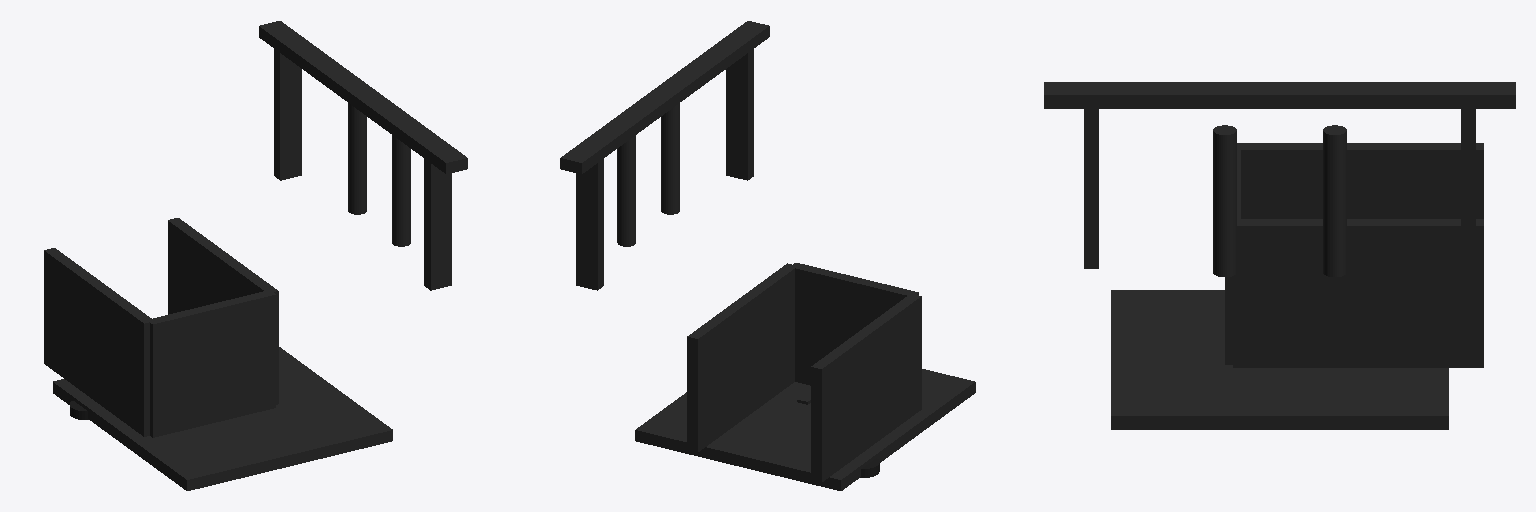
The robot description file, URDF, robot "j100_0922":
<?xml version='1.0' encoding='utf-8'?>
<robot name="j100_0922">
  <material name="clearpath_dark_grey">
    <color rgba="0.2 0.2 0.2 1.0" />
  </material>
  <material name="clearpath_medium_grey">
    <color rgba="0.6 0.6 0.6 1.0" />
  </material>
  <material name="clearpath_light_grey">
    <color rgba="0.8 0.8 0.8 1.0" />
  </material>
  <material name="clearpath_yellow">
    <color rgba="0.8 0.8 0.0 1.0" />
  </material>
  <material name="clearpath_black">
    <color rgba="0.15 0.15 0.15 1.0" />
  </material>
  <material name="clearpath_white">
    <color rgba="1.0 1.0 1.0 1.0" />
  </material>
  <material name="clearpath_red">
    <color rgba="1.0 0.0 0.0 1.0" />
  </material>
  <material name="clearpath_aluminum">
    <color rgba="0.5 0.5 0.5 1" />
  </material>
  <material name="clearpath_plastic">
    <color rgba="0.1 0.1 0.1   1" />
  </material>
  <link name="base_link"><visual>
      <origin xyz="0 0 0" rpy="0 -0 0" /><geometry>
        <mesh filename="meshes/clearpath_platform_description/meshes/j100/attachments/default_fender.stl" />
      </geometry>
      <material name="clearpath_yellow" />
    </visual>
  <visual>
      <origin xyz="0 0 0" rpy="0 -0 3.1415" /><geometry>
        <mesh filename="meshes/clearpath_platform_description/meshes/j100/attachments/default_fender.stl" />
      </geometry>
      <material name="clearpath_yellow" />
    </visual>
  </link>
  <joint name="base_link_joint" type="fixed">
    <origin rpy="0 0 0" xyz="0 0 0" />
    <parent link="base_link" />
    <child link="chassis_link" />
  </joint>
  <link name="chassis_link">
    <visual>
      <origin rpy="1.5707963267948966 0 1.5707963267948966" xyz="0 0 -0.0655" />
      <geometry>
        <mesh filename="meshes/clearpath_platform_description/meshes/j100/j100_base.stl" />
      </geometry>
      <material name="clearpath_dark_grey" />
    </visual>
    <collision>
      <origin xyz="0 0 0.092" />
      <geometry>
        <box size="0.42 0.31 0.184" />
      </geometry>
    </collision>
    <inertial>
      <origin rpy="0 0 0" xyz="0.012  0.002 0.067" />
      <mass value="16.523" />
      <inertia ixx="0.3136" ixy="-0.0008" ixz="0.0164" iyy="0.3922" iyz="-0.0009" izz="0.4485" />
    </inertial>
  <visual>
      <origin xyz="-0.18 0.126 0.1895" rpy="0 -0 0" /><geometry>
        <cylinder length="0.016" radius="0.026" />
      </geometry>
      <material name="clearpath_black" />
    </visual>
  </link>
  <link name="front_left_wheel_link">
    <visual>
      <origin rpy="1.5707963267948966 0 0" xyz="0 0 0" />
      <geometry>
        <mesh filename="meshes/clearpath_platform_description/meshes/j100/wheels/outdoor.stl" />
      </geometry>
      <material name="clearpath_black" />
    </visual>
    <collision>
      <origin rpy="1.5707963267948966 0 0" xyz="0 0 0" />
      <geometry>
        <cylinder length="0.04" radius="0.098" />
      </geometry>
    </collision>
    <inertial>
      <origin rpy="0 0 0" xyz="0 0 0" />
      <mass value="0.477" />
      <inertia ixx="0.0013" ixy="0" ixz="0" iyy="0.0024" iyz="0" izz="0.0013" />
    </inertial>
  </link>
  <joint name="front_left_wheel_joint" type="continuous">
    <parent link="chassis_link" />
    <child link="front_left_wheel_link" />
    <origin rpy="0 0 0" xyz="0.131 0.187795 0.0345" />
    <axis xyz="0 1 0" />
  </joint>
  <link name="front_right_wheel_link">
    <visual>
      <origin rpy="1.5707963267948966 0 0" xyz="0 0 0" />
      <geometry>
        <mesh filename="meshes/clearpath_platform_description/meshes/j100/wheels/outdoor.stl" />
      </geometry>
      <material name="clearpath_black" />
    </visual>
    <collision>
      <origin rpy="1.5707963267948966 0 0" xyz="0 0 0" />
      <geometry>
        <cylinder length="0.04" radius="0.098" />
      </geometry>
    </collision>
    <inertial>
      <origin rpy="0 0 0" xyz="0 0 0" />
      <mass value="0.477" />
      <inertia ixx="0.0013" ixy="0" ixz="0" iyy="0.0024" iyz="0" izz="0.0013" />
    </inertial>
  </link>
  <joint name="front_right_wheel_joint" type="continuous">
    <parent link="chassis_link" />
    <child link="front_right_wheel_link" />
    <origin rpy="0 0 0" xyz="0.131 -0.187795 0.0345" />
    <axis xyz="0 1 0" />
  </joint>
  <link name="rear_left_wheel_link">
    <visual>
      <origin rpy="1.5707963267948966 0 0" xyz="0 0 0" />
      <geometry>
        <mesh filename="meshes/clearpath_platform_description/meshes/j100/wheels/outdoor.stl" />
      </geometry>
      <material name="clearpath_black" />
    </visual>
    <collision>
      <origin rpy="1.5707963267948966 0 0" xyz="0 0 0" />
      <geometry>
        <cylinder length="0.04" radius="0.098" />
      </geometry>
    </collision>
    <inertial>
      <origin rpy="0 0 0" xyz="0 0 0" />
      <mass value="0.477" />
      <inertia ixx="0.0013" ixy="0" ixz="0" iyy="0.0024" iyz="0" izz="0.0013" />
    </inertial>
  </link>
  <joint name="rear_left_wheel_joint" type="continuous">
    <parent link="chassis_link" />
    <child link="rear_left_wheel_link" />
    <origin rpy="0 0 0" xyz="-0.131 0.187795 0.0345" />
    <axis xyz="0 1 0" />
  </joint>
  <link name="rear_right_wheel_link">
    <visual>
      <origin rpy="1.5707963267948966 0 0" xyz="0 0 0" />
      <geometry>
        <mesh filename="meshes/clearpath_platform_description/meshes/j100/wheels/outdoor.stl" />
      </geometry>
      <material name="clearpath_black" />
    </visual>
    <collision>
      <origin rpy="1.5707963267948966 0 0" xyz="0 0 0" />
      <geometry>
        <cylinder length="0.04" radius="0.098" />
      </geometry>
    </collision>
    <inertial>
      <origin rpy="0 0 0" xyz="0 0 0" />
      <mass value="0.477" />
      <inertia ixx="0.0013" ixy="0" ixz="0" iyy="0.0024" iyz="0" izz="0.0013" />
    </inertial>
  </link>
  <joint name="rear_right_wheel_joint" type="continuous">
    <parent link="chassis_link" />
    <child link="rear_right_wheel_link" />
    <origin rpy="0 0 0" xyz="-0.131 -0.187795 0.0345" />
    <axis xyz="0 1 0" />
  </joint>
  
  <link name="imu_0_link">
    <inertial>
      <mass value="0.001" />
      <origin rpy="0 0 0" xyz="0 0 0" />
      <inertia ixx="1e-09" ixy="0.0" ixz="0.0" iyy="1e-09" iyz="0.0" izz="1e-09" />
    </inertial>
  </link>
  <joint name="imu_joint" type="fixed">
    <parent link="chassis_link" />
    <child link="imu_0_link" />
  </joint>
  <link name="default_mount" />
  <joint name="default_mount_joint" type="fixed">
    <parent link="chassis_link" />
    <child link="default_mount" />
    <origin xyz="0 0 0.184" />
  </joint>
  <link name="rear_0_mount" />
  <joint name="rear_0_mount_joint" type="fixed">
    <parent link="default_mount" />
    <child link="rear_0_mount" />
    <origin xyz="-0.12 0 0" />
  </joint>
  <link name="front_0_mount" />
  <joint name="front_0_mount_joint" type="fixed">
    <parent link="default_mount" />
    <child link="front_0_mount" />
    <origin xyz="0.12 0 0" />
  </joint>
  
  
  <link name="top_plate_front_link" />
  <joint name="top_plate_front_joint" type="fixed">
    <parent link="top_plate_link" />
    <child link="top_plate_front_link" />
    <origin rpy="0.0 0.0 0.0" xyz="0.19 0.0 0.003" />
  </joint>
  <link name="zed_mount_link" />
  <joint name="zed_mount_joint" type="fixed">
    <parent link="top_plate_front_link" />
    <child link="zed_mount_link" />
    <origin rpy="3.14159 0.0 0.0" xyz="0.02 0.0 -0.006" />
  </joint>
  <link name="top_plate_link" />
  <joint name="top_plate_joint" type="fixed">
    <parent link="top_plate_rail_link" />
    <child link="top_plate_link" />
    <origin rpy="0.0 0.0 0.0" xyz="0.05 0.0 0.013" />
  </joint>
  <link name="top_shelf_link" />
  <joint name="top_shelf_joint" type="fixed">
    <parent link="top_mount_link" />
    <child link="top_shelf_link" />
    <origin rpy="0.0 0.0 0.0" xyz="0.259 0.0 0.24" />
  </joint>
  <link name="bar_top_link">
    <visual>
      <geometry>
        <box size="0.04 0.6 0.02" />
      </geometry>
      <material name="clearpath_dark_grey" />
    </visual>
    <collision>
      <geometry>
        <box size="0.04 0.6 0.02" />
      </geometry>
      <material name="clearpath_dark_grey" />
    </collision>
  </link>
  <joint name="bar_top_joint" type="fixed">
    <parent link="top_shelf_link" />
    <child link="bar_top_link" />
    <origin rpy="0.0 0.0 0.0" xyz="0.0 0.0 0.235" />
  </joint>
  <link name="bar_left_link">
    <visual>
      <geometry>
        <box size="0.04 0.02 0.225" />
      </geometry>
      <material name="clearpath_dark_grey" />
    </visual>
    <collision>
      <geometry>
        <box size="0.04 0.02 0.225" />
      </geometry>
      <material name="clearpath_dark_grey" />
    </collision>
  </link>
  <joint name="bar_left_joint" type="fixed">
    <parent link="top_shelf_link" />
    <child link="bar_left_link" />
    <origin rpy="0.0 0.0 0.0" xyz="0.0 0.24 0.1125" />
  </joint>
  <link name="bar_right_link">
    <visual>
      <geometry>
        <box size="0.04 0.02 0.225" />
      </geometry>
      <material name="clearpath_dark_grey" />
    </visual>
    <collision>
      <geometry>
        <box size="0.04 0.02 0.225" />
      </geometry>
      <material name="clearpath_dark_grey" />
    </collision>
  </link>
  <joint name="bar_right_joint" type="fixed">
    <parent link="top_shelf_link" />
    <child link="bar_right_link" />
    <origin rpy="0.0 0.0 0.0" xyz="0.0 -0.24 0.1125" />
  </joint>
  <link name="top_plate_rail_link">
    <visual>
      <geometry>
        <box size="0.38 0.43 0.02" />
      </geometry>
      <material name="clearpath_dark_grey" />
    </visual>
    <collision>
      <geometry>
        <box size="0.38 0.43 0.02" />
      </geometry>
      <material name="clearpath_dark_grey" />
    </collision>
  </link>
  <joint name="top_plate_rail_joint" type="fixed">
    <parent link="default_mount" />
    <child link="top_plate_rail_link" />
    <origin rpy="0.0 0.0 0.0" xyz="0.0 0.0 0.01" />
  </joint>
  <link name="unloader_wall_1_link">
    <visual>
      <geometry>
        <box size="0.02 0.32 0.2" />
      </geometry>
      <material name="clearpath_dark_grey" />
    </visual>
    <collision>
      <geometry>
        <box size="0.02 0.32 0.2" />
      </geometry>
      <material name="clearpath_dark_grey" />
    </collision>
  </link>
  <joint name="unloader_wall_1_joint" type="fixed">
    <parent link="base_link" />
    <child link="unloader_wall_1_link" />
    <origin rpy="0.0 0.0 0.0" xyz="-0.17 0.1 0.315" />
  </joint>
  <link name="unloader_wall_3_link">
    <visual>
      <geometry>
        <box size="0.02 0.32 0.2" />
      </geometry>
      <material name="clearpath_dark_grey" />
    </visual>
    <collision>
      <geometry>
        <box size="0.02 0.32 0.2" />
      </geometry>
      <material name="clearpath_dark_grey" />
    </collision>
  </link>
  <joint name="unloader_wall_3_joint" type="fixed">
    <parent link="base_link" />
    <child link="unloader_wall_3_link" />
    <origin rpy="0.0 0.0 0.0" xyz="0.058 0.1 0.315" />
  </joint>
  <link name="unloader_wall_4_link">
    <visual>
      <geometry>
        <box size="0.228 0.02 0.2" />
      </geometry>
      <material name="clearpath_dark_grey" />
    </visual>
    <collision>
      <geometry>
        <box size="0.228 0.02 0.2" />
      </geometry>
      <material name="clearpath_dark_grey" />
    </collision>
  </link>
  <joint name="unloader_wall_4_joint" type="fixed">
    <parent link="base_link" />
    <child link="unloader_wall_4_link" />
    <origin rpy="0.0 0.0 0.0" xyz="-0.056 -0.06 0.315" />
  </joint>
  <link name="antenna_left_link">
    <visual>
      <geometry>
        <cylinder length="0.2" radius="0.015" />
      </geometry>
      <material name="clearpath_dark_grey" />
    </visual>
    <collision>
      <geometry>
        <cylinder length="0.2" radius="0.015" />
      </geometry>
      <material name="clearpath_dark_grey" />
    </collision>
  </link>
  <joint name="antenna_left_joint" type="fixed">
    <parent link="top_shelf_link" />
    <child link="antenna_left_link" />
    <origin rpy="0.0 0.0 0.0" xyz="0.03 0.07 0.1" />
  </joint>
  <link name="antenna_right_link">
    <visual>
      <geometry>
        <cylinder length="0.2" radius="0.015" />
      </geometry>
      <material name="clearpath_dark_grey" />
    </visual>
    <collision>
      <geometry>
        <cylinder length="0.2" radius="0.015" />
      </geometry>
      <material name="clearpath_dark_grey" />
    </collision>
  </link>
  <joint name="antenna_right_joint" type="fixed">
    <parent link="top_shelf_link" />
    <child link="antenna_right_link" />
    <origin rpy="0.0 0.0 0.0" xyz="0.03 -0.07 0.1" />
  </joint>
  
  
  
  <link name="camera_0_camera_link" />
  
  <link name="camera_0_camera_center">
    <visual>
      <origin rpy="0 0 0" xyz="-0.01 0 0.0" />
      <geometry>
        <mesh filename="meshes/zed_description/meshes/zed2i.stl" />
      </geometry>
      <material name="cam_mat">
        <color rgba="0.25 0.25 0.25 1.0" />
      </material>
    </visual>
    <collision>
      <origin rpy="0 0 0" xyz="-0.01 0 0.0" />
      <geometry>
        <mesh filename="meshes/zed_description/meshes/zed2i.stl" />
      </geometry>
    </collision>
  </link>
  <joint name="camera_0_camera_center_joint" type="fixed">
    <parent link="camera_0_camera_link" />
    <child link="camera_0_camera_center" />
    <origin rpy="0 0.0 0" xyz="0 0 0.015" />
  </joint>
  
  <link name="camera_0_left_camera_frame">
  </link>
  <joint name="camera_0_left_camera_joint" type="fixed">
    <parent link="camera_0_camera_center" />
    <child link="camera_0_left_camera_frame" />
    <origin rpy="0 0 0" xyz="-0.01 0.06 0" />
  </joint>
  <link name="camera_0_left_camera_frame_optical" />
  <joint name="camera_0_left_camera_optical_joint" type="fixed">
    <origin rpy="-1.5707963267948966 0.0 -1.5707963267948966" xyz="0 0 0" />
    <parent link="camera_0_left_camera_frame" />
    <child link="camera_0_left_camera_frame_optical" />
  </joint>
  
  <link name="camera_0_right_camera_frame">
  </link>
  <joint name="camera_0_right_camera_joint" type="fixed">
    <parent link="camera_0_camera_center" />
    <child link="camera_0_right_camera_frame" />
    <origin rpy="0 0 0" xyz="-0.01 -0.06 0" />
  </joint>
  <link name="camera_0_right_camera_frame_optical" />
  <joint name="camera_0_right_camera_optical_joint" type="fixed">
    <origin rpy="-1.5707963267948966 0.0 -1.5707963267948966" xyz="0 0 0" />
    <parent link="camera_0_right_camera_frame" />
    <child link="camera_0_right_camera_frame_optical" />
  </joint>
  <joint name="camera_0_camera_joint" type="fixed">
    <parent link="zed_mount_link" />
    <child link="camera_0_camera_link" />
    <origin rpy="0.0 0.0 0.0" xyz="0.0 0.0 0.0" />
  </joint>
  <link name="gps_1_link">
    <visual>
      <material name="clearpath_white" />
      <geometry>
        <mesh filename="meshes/clearpath_sensors_description/meshes/gnss_spherical.stl" />
      </geometry>
    </visual>
    <collision>
      <material name="clearpath_white" />
      <origin xyz="0.0000 -0.0000 0.0324" />
      <geometry>
        <sphere radius="0.1122" />
      </geometry>
    </collision>
  </link>
  <joint name="gps_1_joint" type="fixed">
    <parent link="top_shelf_link" />
    <child link="gps_1_link" />
    <origin rpy="0.0 0.0 0.0" xyz="0.04 0.28 0.255" />
  </joint>
  <link name="gps_2_link">
    <visual>
      <material name="clearpath_white" />
      <geometry>
        <mesh filename="meshes/clearpath_sensors_description/meshes/gnss_spherical.stl" />
      </geometry>
    </visual>
    <collision>
      <material name="clearpath_white" />
      <origin xyz="0.0000 -0.0000 0.0324" />
      <geometry>
        <sphere radius="0.1122" />
      </geometry>
    </collision>
  </link>
  <joint name="gps_2_joint" type="fixed">
    <parent link="top_shelf_link" />
    <child link="gps_2_link" />
    <origin rpy="0.0 0.0 0.0" xyz="0.04 -0.28 0.255" />
  </joint>
  <link name="top_mount_link">
    <visual>
      <origin rpy="0.0 0.0 3.14159" xyz="0.0 0.0 0.0" />
      <material name="clearpath_black" />
      <geometry>
        <mesh filename="meshes/mtu32_description/meshes/top_assy_rev1.obj" scale="0.001 0.001 0.001" />
      </geometry>
    </visual>
    <collision>
      <origin rpy="0.0 0.0 3.14159" xyz="0.0 0.0 0.0" />
      <geometry>
        <mesh filename="meshes/mtu32_description/meshes/top_assy_rev1.obj" scale="0.001 0.001 0.001" />
      </geometry>
    </collision>
  <visual>
      <origin xyz="0 0 0.0025" rpy="0 -0 3.141592" /><geometry>
        <box size="0.02 0.02 0.005" />
      </geometry>
      <material name="clearpath_dark_grey" />
    </visual>
  </link>
  
  <joint name="top_mount_joint" type="fixed">
    <child link="top_mount_link" />
    <parent link="default_mount" />
    <origin rpy="0.0 0.0 0.0" xyz="0.0 0.0 0.028" />
    
  </joint>
  <material name="aluminum">
    <color rgba="0.5 0.5 0.5 1" />
  </material>
  <material name="plastic">
    <color rgba="0.1 0.1 0.1 1" />
  </material>
  
  </robot>

--- Facts derived from the render (not from the file) ---
Views: 3 orthographic renders of the robot side by side, from view 1: azimuth 30°, elevation 25°; view 2: azimuth 150°, elevation 25°; view 3: azimuth 270°, elevation 25°.
Robot: j100_0922 — 32 links, 31 joints (4 continuous, 27 fixed); root link base_link; default pose: all joints at 0.
Visible links, largest first — view 1: top_plate_rail_link, unloader_wall_4_link, unloader_wall_1_link, bar_top_link, unloader_wall_3_link, bar_right_link, bar_left_link, antenna_left_link, antenna_right_link; view 2: unloader_wall_1_link, unloader_wall_3_link, top_plate_rail_link, unloader_wall_4_link, bar_top_link, bar_left_link, bar_right_link, antenna_right_link, antenna_left_link; view 3: unloader_wall_3_link, top_plate_rail_link, unloader_wall_1_link, bar_top_link, antenna_left_link, antenna_right_link, bar_left_link, bar_right_link, unloader_wall_4_link.
Boxes of the visible links, left/top/right/bottom form: top_plate_rail_link: left=53, top=347, right=392, bottom=490; unloader_wall_4_link: left=148, top=290, right=275, bottom=437; unloader_wall_1_link: left=44, top=248, right=153, bottom=436; bar_top_link: left=259, top=21, right=467, bottom=174; unloader_wall_3_link: left=168, top=218, right=278, bottom=404; bar_right_link: left=424, top=159, right=451, bottom=290; bar_left_link: left=274, top=49, right=301, bottom=180; antenna_left_link: left=348, top=103, right=366, bottom=214; antenna_right_link: left=392, top=135, right=410, bottom=246; unloader_wall_1_link: left=811, top=294, right=921, bottom=482; unloader_wall_3_link: left=687, top=263, right=796, bottom=452; top_plate_rail_link: left=635, top=369, right=975, bottom=490; unloader_wall_4_link: left=793, top=263, right=918, bottom=385; bar_top_link: left=560, top=21, right=769, bottom=173; bar_left_link: left=576, top=159, right=603, bottom=290; bar_right_link: left=726, top=49, right=753, bottom=180; antenna_right_link: left=661, top=103, right=679, bottom=214; antenna_left_link: left=617, top=135, right=635, bottom=246; unloader_wall_3_link: left=1233, top=219, right=1483, bottom=367; top_plate_rail_link: left=1111, top=290, right=1448, bottom=429; unloader_wall_1_link: left=1237, top=143, right=1483, bottom=218; bar_top_link: left=1044, top=82, right=1515, bottom=108; antenna_left_link: left=1323, top=125, right=1346, bottom=276; antenna_right_link: left=1213, top=125, right=1236, bottom=276; bar_left_link: left=1461, top=109, right=1475, bottom=268; bar_right_link: left=1084, top=109, right=1098, bottom=268; unloader_wall_4_link: left=1225, top=147, right=1240, bottom=364.
Bounding box of the posed robot: 0.51 × 0.6 × 0.5155 m (x, y, z).
Meshes: 6 distinct files referenced, 0 mesh visuals loaded (none loaded); not drawn: 7 (reference not matched to a file when rendering), 4 (file found but could not be loaded).
